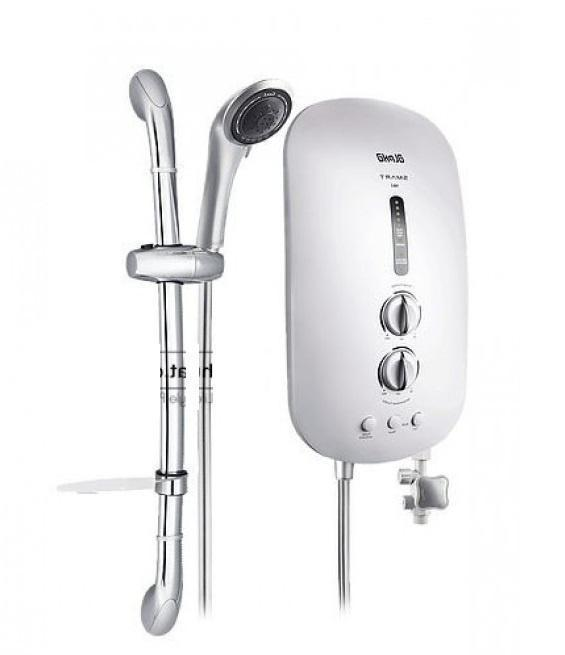Ducha: (112, 42, 475, 627)
